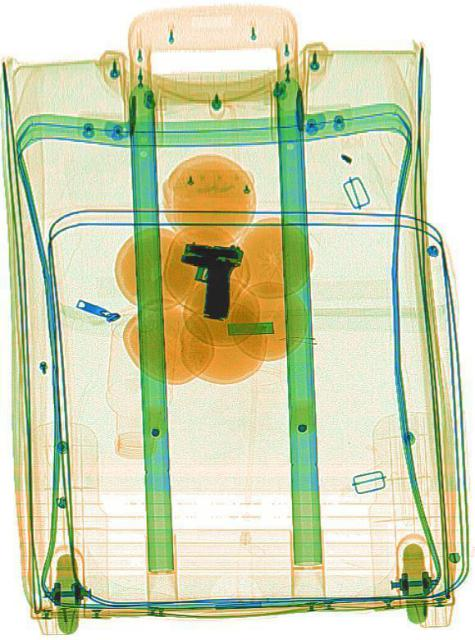Gun: (173, 235, 242, 321)
